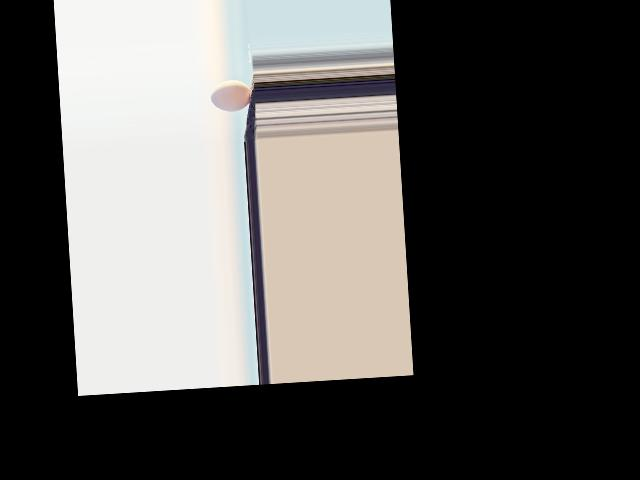egg: (209, 78, 251, 112)
